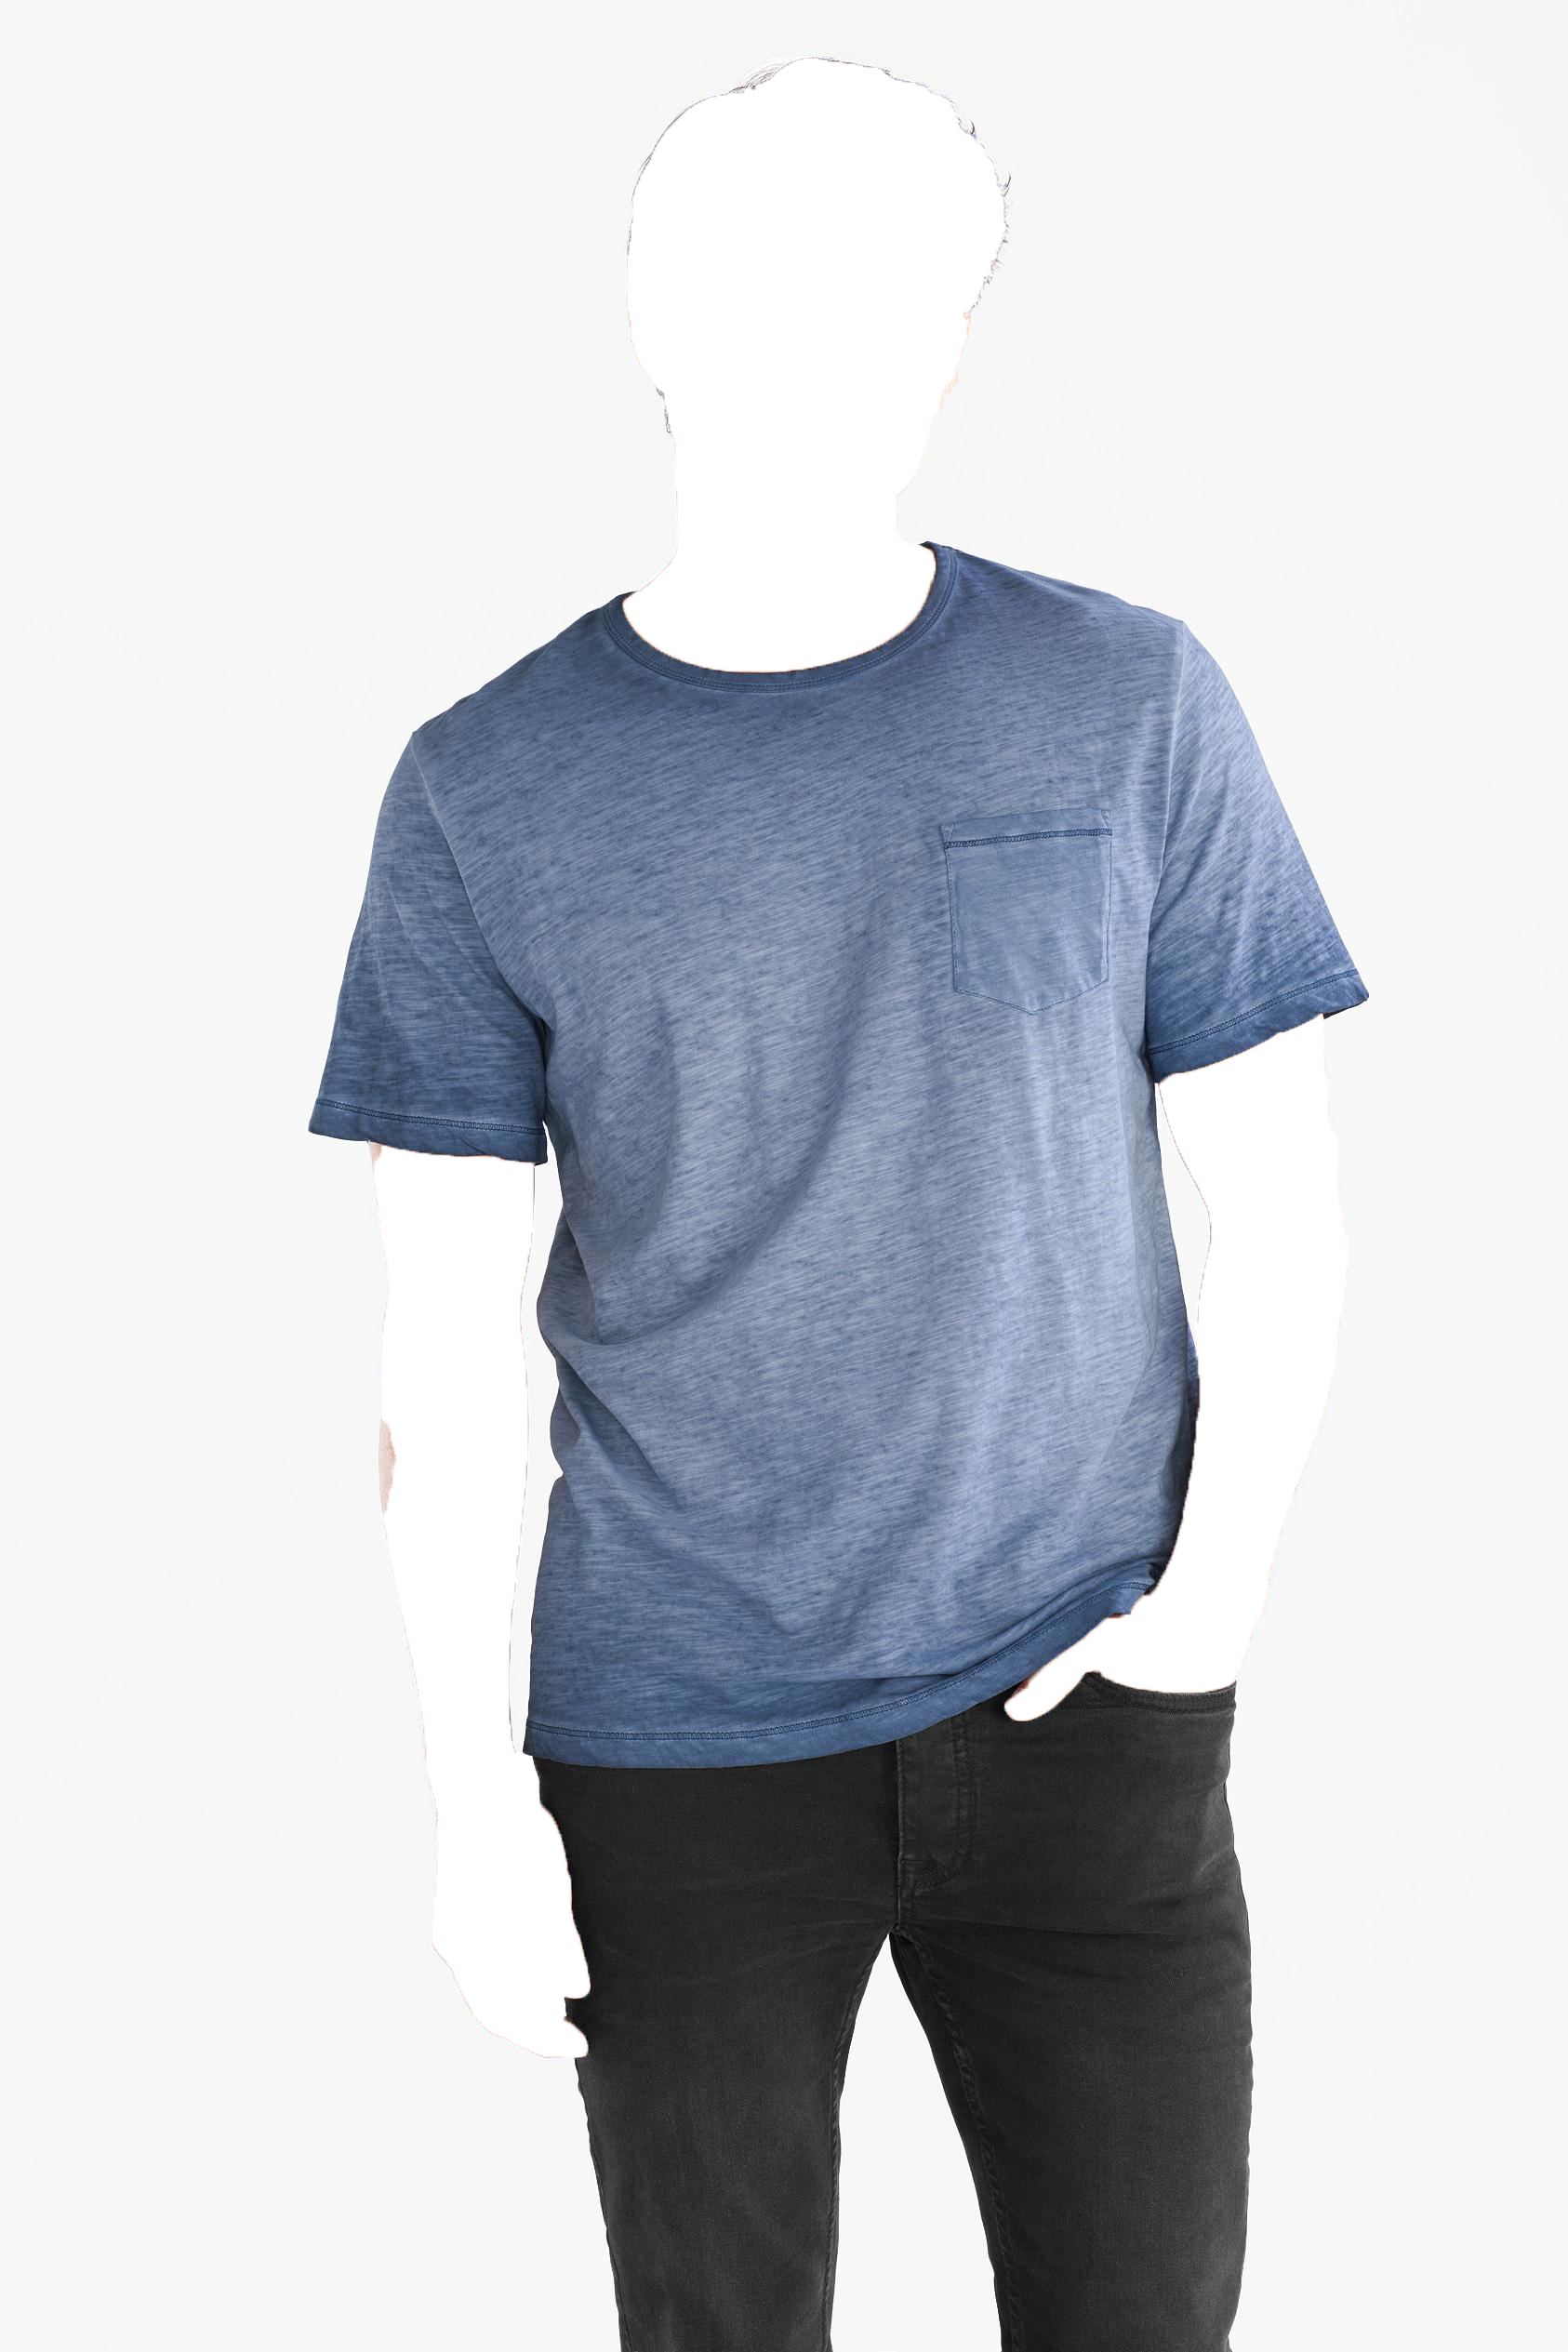teeshirt: (271, 553, 1412, 1780)
